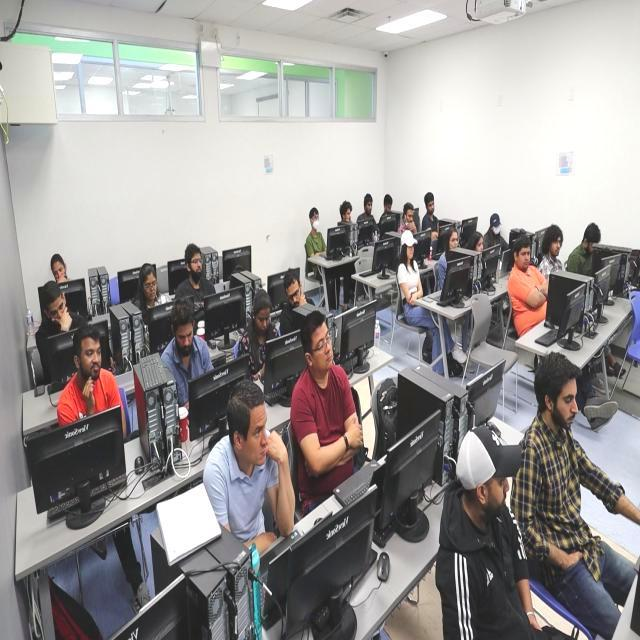Looking away: (556, 378, 578, 430), (175, 321, 194, 356), (49, 292, 66, 322), (254, 306, 272, 334), (285, 280, 301, 310), (143, 272, 158, 303), (52, 259, 66, 283)
Looking forward: (244, 402, 268, 466), (311, 320, 334, 375), (80, 338, 102, 381), (486, 475, 509, 511), (188, 250, 203, 278), (517, 246, 531, 271), (549, 235, 562, 258), (448, 230, 458, 250), (474, 235, 484, 255), (406, 243, 414, 260)
